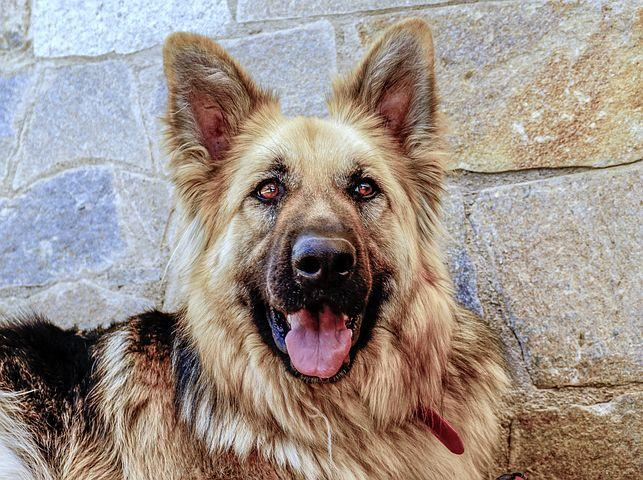fox: (0, 19, 515, 479)
